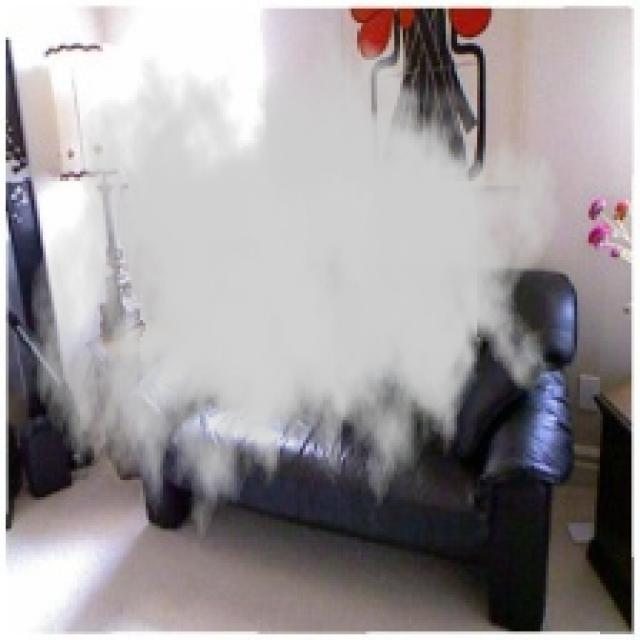smoke: (28, 14, 563, 563)
